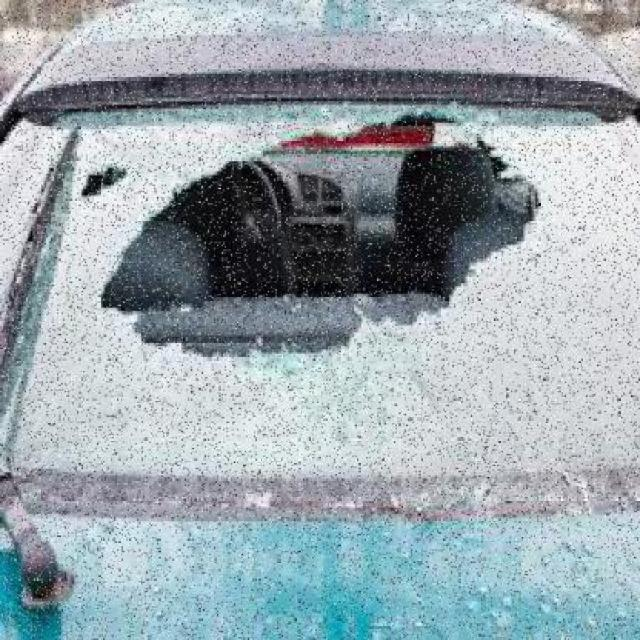Rear-windscreen-Damage: (0, 69, 638, 587)
